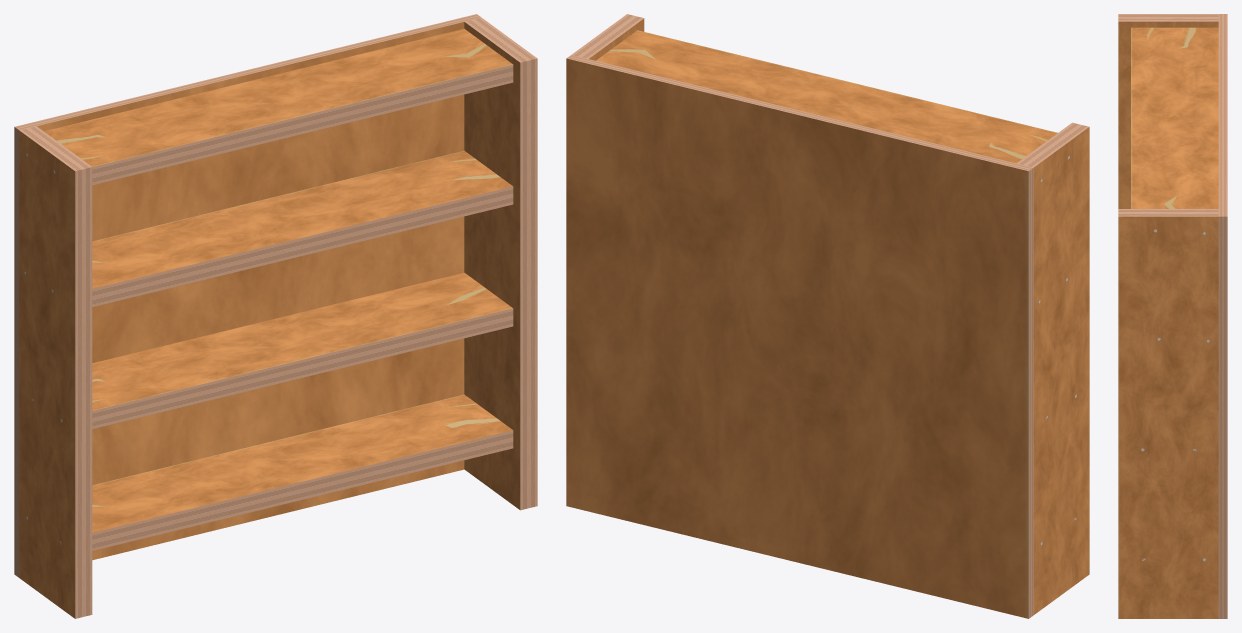
Rendered from Shelf_1.fbx.
The picture shows the model from 3 angles, left to right: view 1: azimuth 30°, elevation 25°; view 2: azimuth 150°, elevation 25°; view 3: azimuth 270°, elevation 25°; orthographic projection. The views are drawn at different scales.
Visible parts, largest first — view 1: Shelf_1; view 2: Shelf_1; view 3: Shelf_1.
Boxes of the visible parts, x1,y1,x2,y2 form: Shelf_1: (14,14,537,618); Shelf_1: (566,14,1089,618); Shelf_1: (1118,14,1227,618).
Size of the model in its own units: 2.16 by 2 by 0.492.
